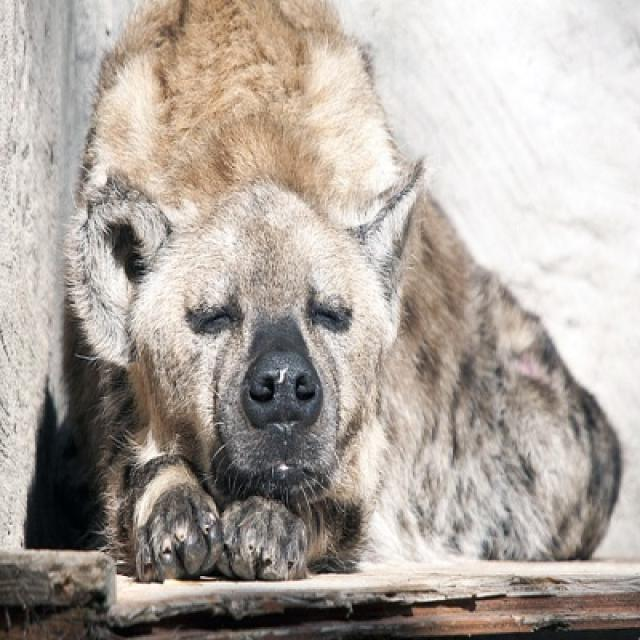hyena: (66, 0, 619, 579)
